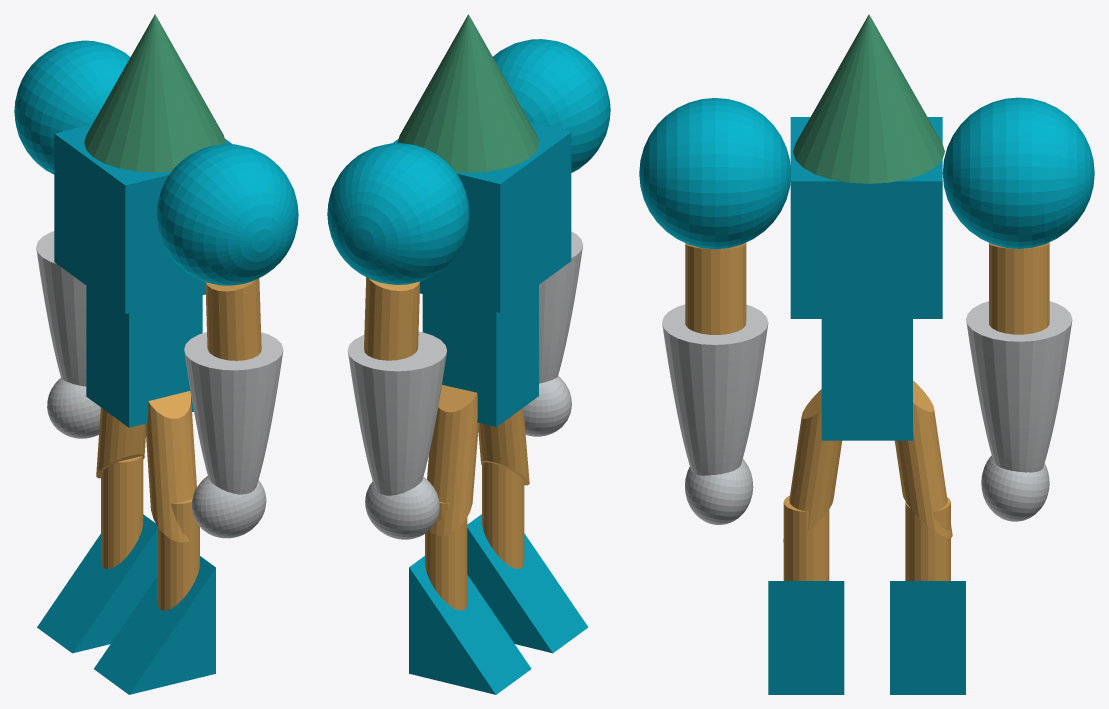
Rendered from Smashing Wolt-Borwo.glb.
3 views of the same model, side by side, from view 1: azimuth 30°, elevation 25°; view 2: azimuth 150°, elevation 25°; view 3: azimuth 270°, elevation 25° (orthographic). The views are drawn at different scales.
Parts seen in each view (by area): view 1: Mesh_Mesh_head_geo.001_lambert2SG.001; view 2: Mesh_Mesh_head_geo.001_lambert2SG.001; view 3: Mesh_Mesh_head_geo.001_lambert2SG.001.
Part boxes in pixels (x1=…): Mesh_Mesh_head_geo.001_lambert2SG.001: x1=14, y1=14, x2=298, y2=694; Mesh_Mesh_head_geo.001_lambert2SG.001: x1=327, y1=14, x2=610, y2=694; Mesh_Mesh_head_geo.001_lambert2SG.001: x1=639, y1=14, x2=1094, y2=694.
Bounding box in the file's own units: 22 × 97.8 × 59.93.
